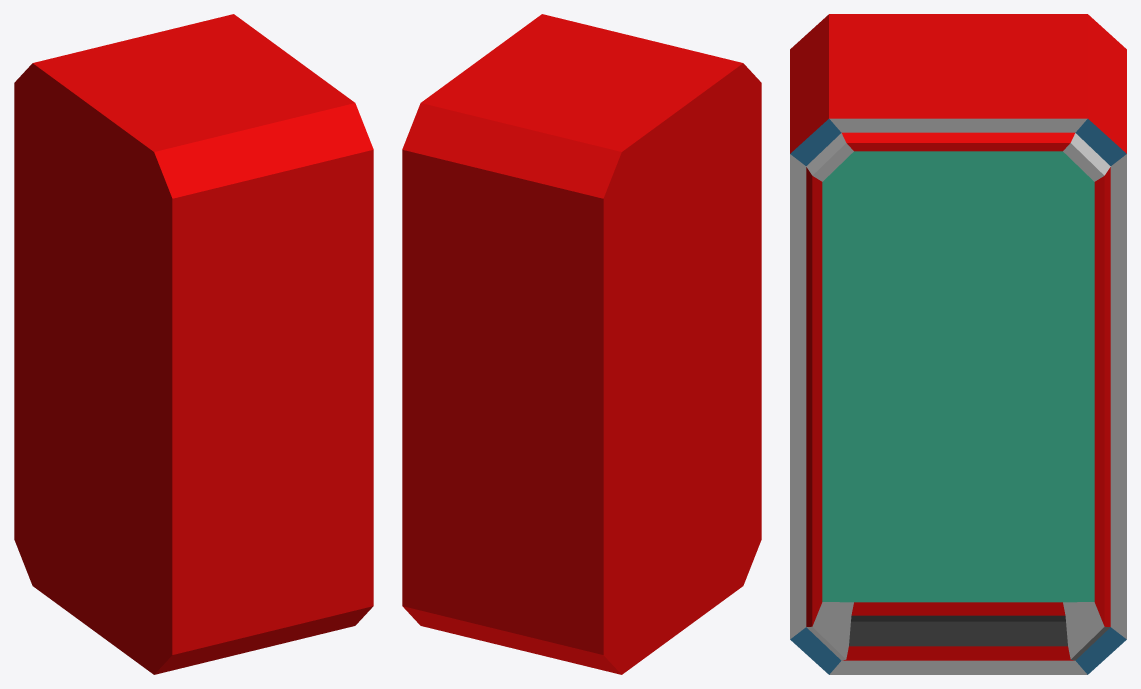
The model's file is VendingMachine.fbx.
The picture shows the model from 3 angles, left to right: view 1: azimuth 30°, elevation 25°; view 2: azimuth 150°, elevation 25°; view 3: azimuth 270°, elevation 25°; orthographic projection. The views are drawn at different scales.
Visible parts, largest first — view 1: VendingMachine; view 2: VendingMachine; view 3: VendingMachine.
Part boxes in pixels (<box>): VendingMachine: <box>14,14,373,674</box>; VendingMachine: <box>402,14,761,674</box>; VendingMachine: <box>790,14,1126,674</box>.
Bounding box in the file's own units: 153 × 365 × 200.
